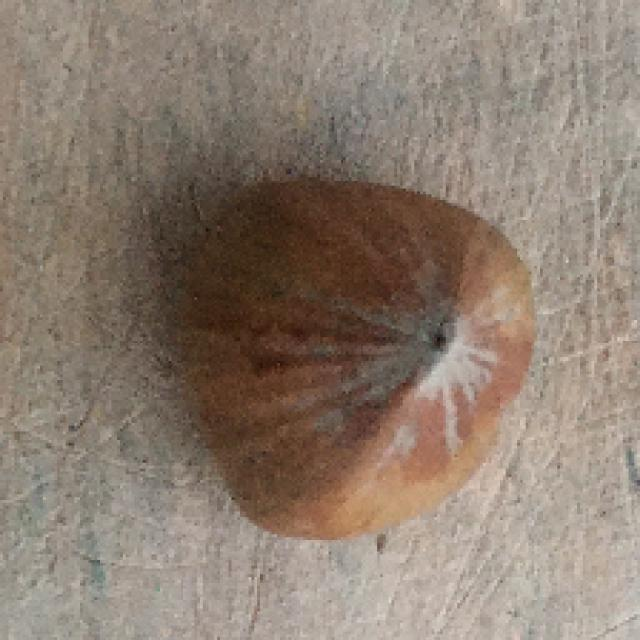qualityHazelnut: (163, 161, 540, 545)
